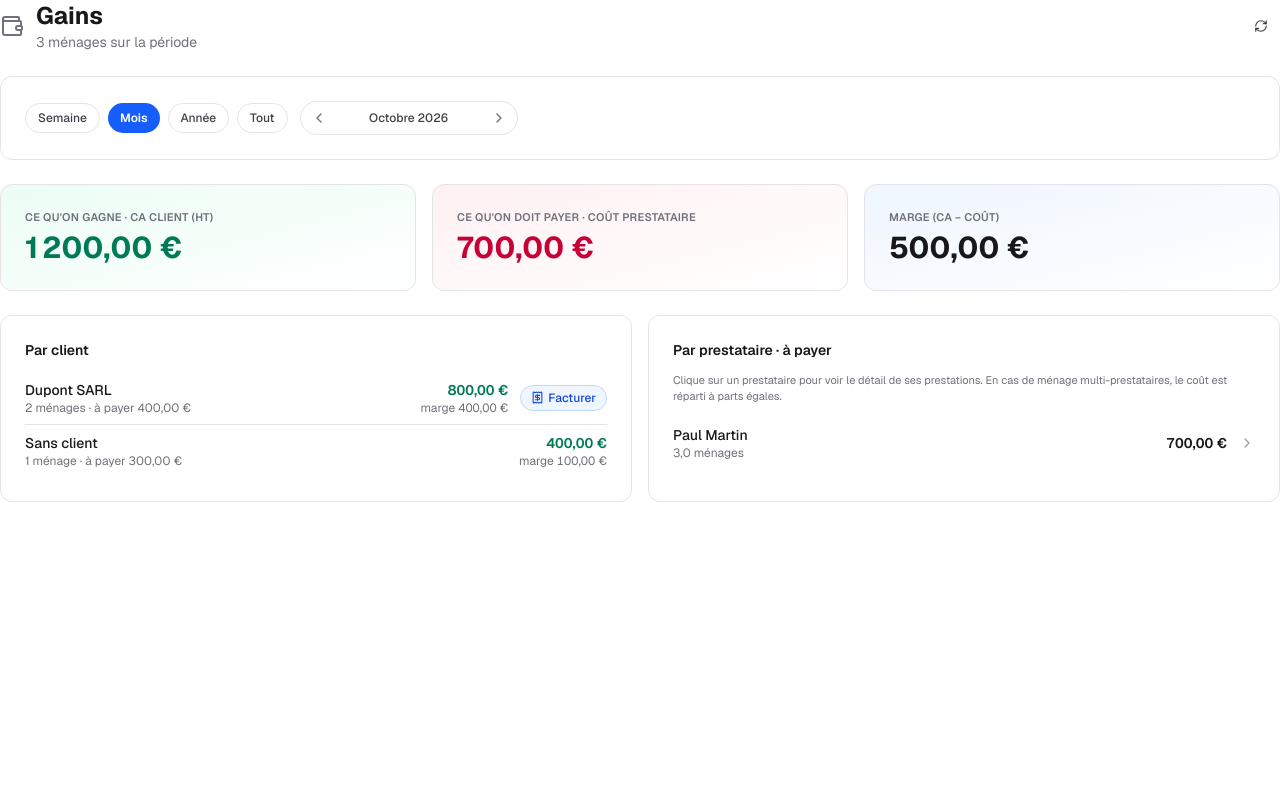
Test: Gains (admin) › cliquer un prestataire ouvre le détail de ce qu'on lui doit
This screenshot has width=1280, height=800.
Click the button "Paul Martin 3,0 ménages 700,00 €": (710, 434) [673,416,1255,468]
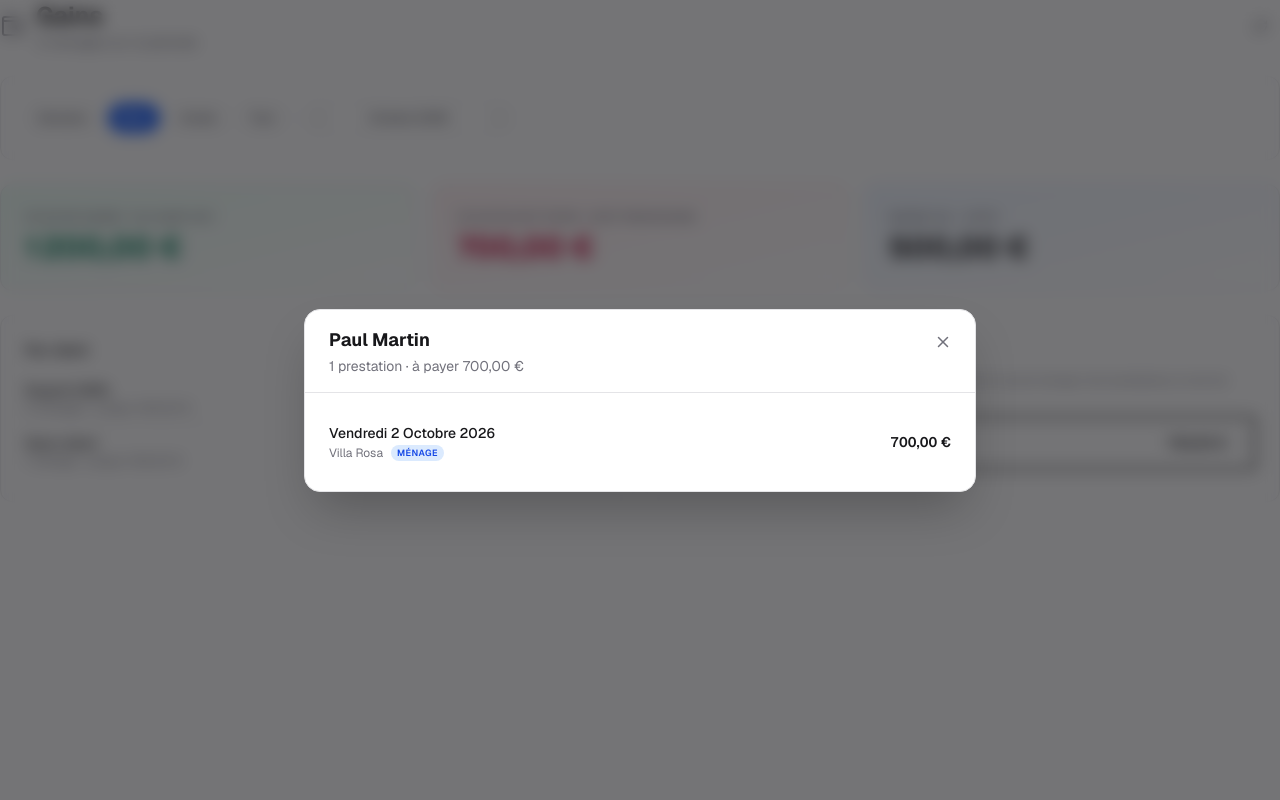
Check: the heading "Paul Martin" is shown, box [329,328,430,350]
Check: the text "vendredi 2 octobre 2026" is shown, box [329,424,495,442]
